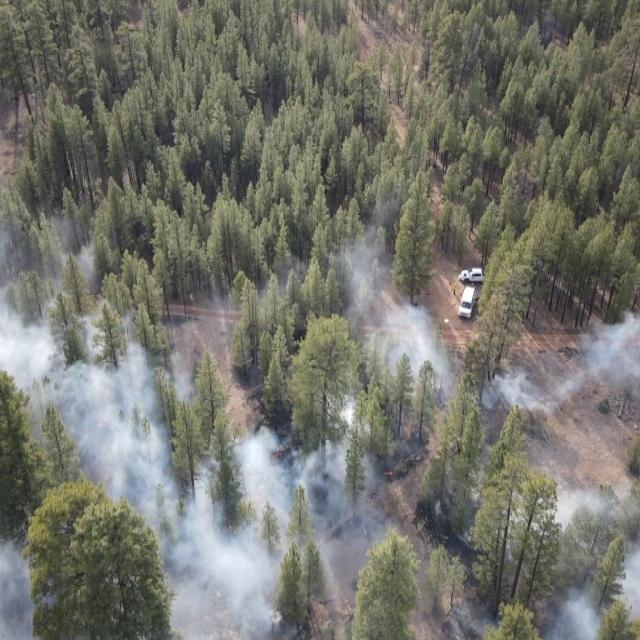fire: (70, 409, 117, 443), (371, 456, 412, 492), (260, 440, 294, 468)
smoke: (197, 194, 454, 380), (39, 350, 233, 520), (478, 459, 640, 640), (0, 212, 141, 386), (474, 296, 640, 425), (234, 392, 390, 520), (145, 520, 295, 640), (0, 536, 59, 640), (307, 523, 394, 575)
